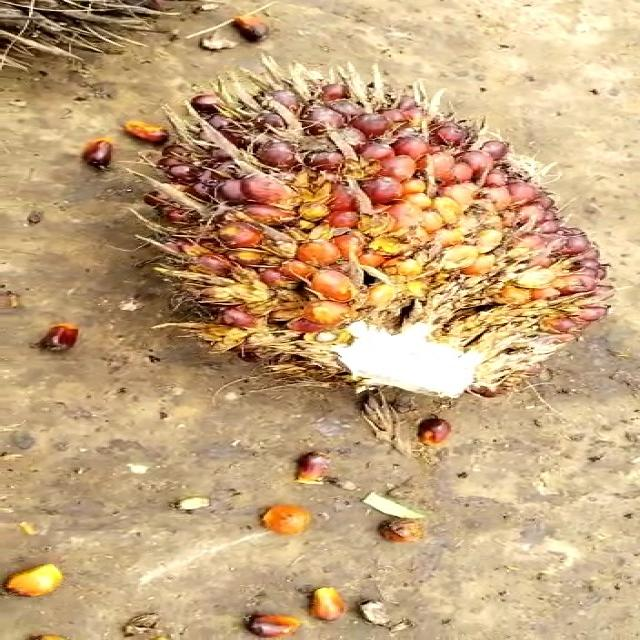palm oil: (103, 66, 626, 422)
